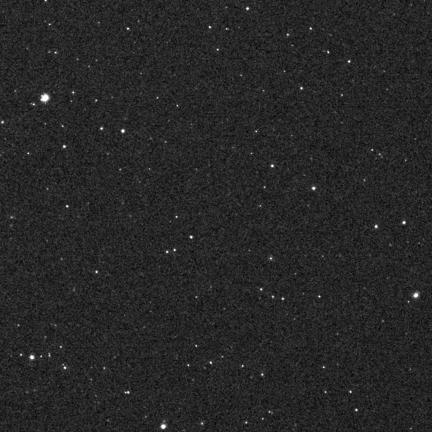blob: (41, 94, 49, 102)
